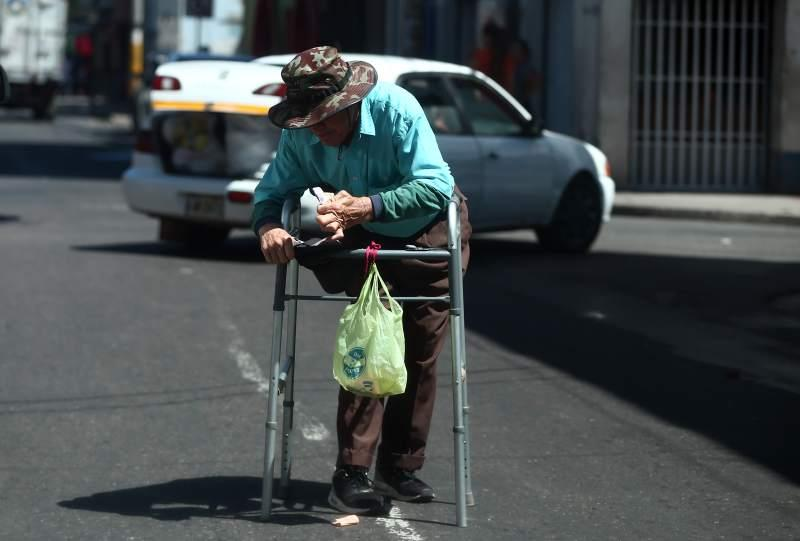walking_frame: (251, 45, 478, 528)
